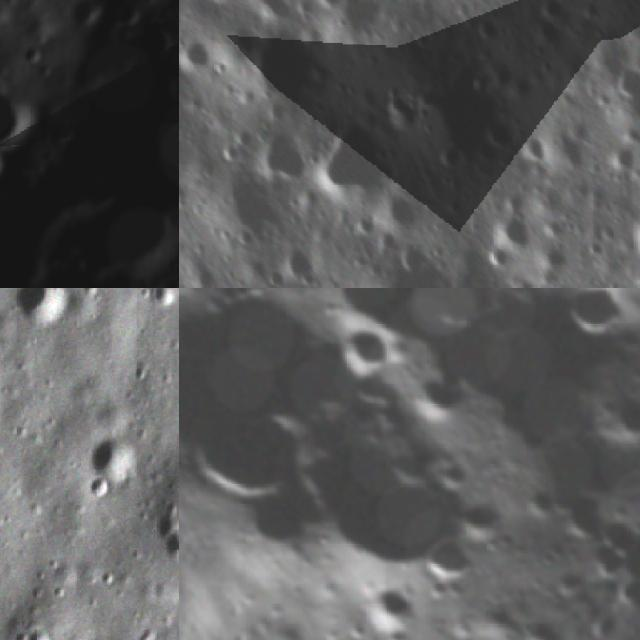crater: (179, 288, 401, 526), (284, 380, 506, 607), (179, 389, 317, 529), (311, 288, 506, 373), (76, 60, 179, 212), (410, 62, 522, 179), (63, 199, 179, 281), (309, 119, 404, 211), (242, 20, 323, 110), (204, 169, 284, 251), (551, 288, 640, 353), (548, 482, 619, 554), (415, 530, 484, 597), (328, 310, 396, 377), (353, 574, 417, 636), (0, 85, 51, 161), (252, 120, 310, 186), (88, 421, 143, 478), (13, 288, 79, 324), (492, 205, 536, 256), (136, 17, 179, 68), (382, 185, 425, 236), (381, 90, 424, 131), (282, 244, 322, 284), (179, 30, 216, 72), (396, 240, 436, 278), (514, 133, 554, 170), (469, 10, 506, 48), (606, 142, 640, 178), (611, 60, 640, 99), (0, 145, 18, 199), (146, 288, 178, 312), (179, 0, 196, 43), (22, 620, 58, 640), (536, 0, 565, 23), (302, 0, 347, 13)
